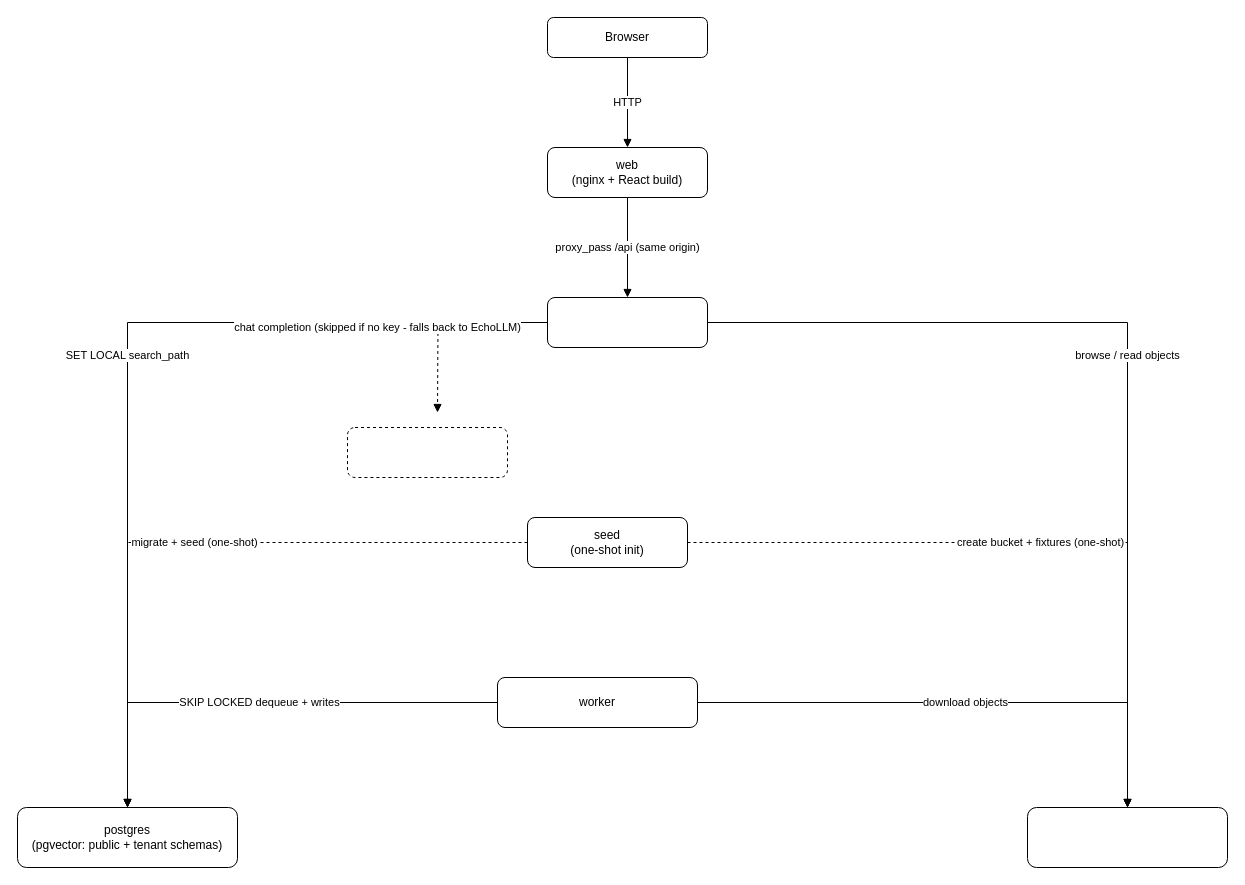
Image size: 1245x885. Some labels were removed from this diagram. Each missing label, with the box of its shape:
api (FastAPI): (546, 296, 708, 348)
localstack (S3 emulation): (1026, 806, 1228, 868)
OpenRouter (optional - external LLM API): (346, 426, 508, 478)
